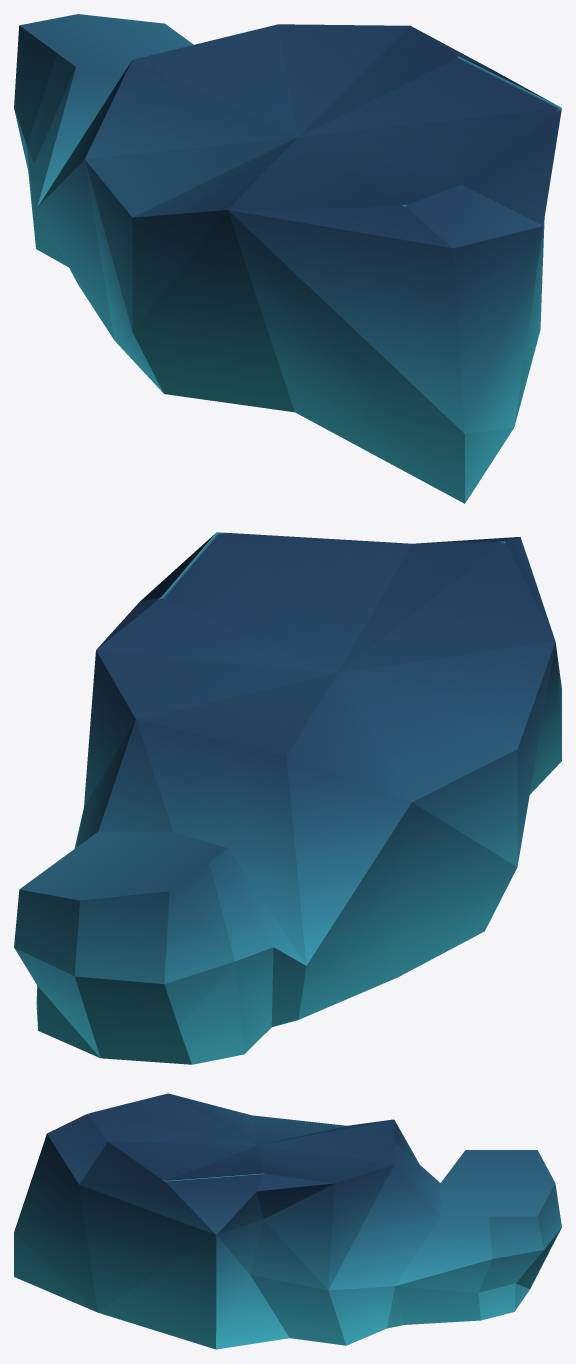
Rendered from MOD_PROPRock3.fbx.
3 renders of one model, top to bottom at view 1: azimuth 30°, elevation 25°; view 2: azimuth 150°, elevation 25°; view 3: azimuth 270°, elevation 25°, orthographic. The views are drawn at different scales.
Visible parts, largest first — view 1: MOD_PropRock3; view 2: MOD_PropRock3; view 3: MOD_PropRock3.
Part boxes in pixels (box(x1,y1,x2,y2)): MOD_PropRock3: box(14, 14, 561, 503); MOD_PropRock3: box(14, 532, 561, 1064); MOD_PropRock3: box(14, 1093, 561, 1349).
Size of the model in its own units: 1.36 by 0.8585 by 2.62.
